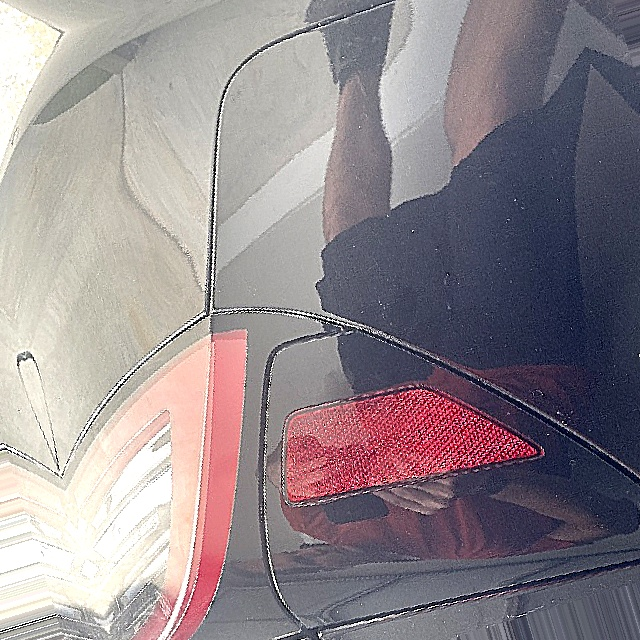reflector: (258, 342, 549, 534)
